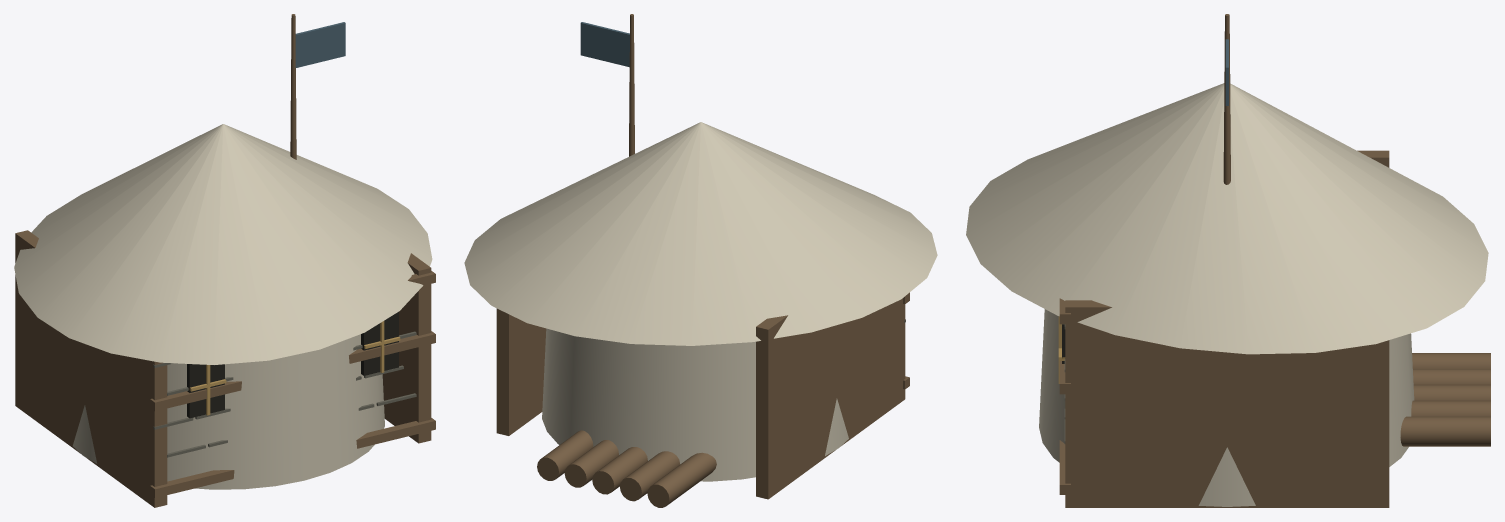
The model's file is b-lumber-steppe.glb.
3 renders of one model, left to right at view 1: azimuth 30°, elevation 25°; view 2: azimuth 150°, elevation 25°; view 3: azimuth 270°, elevation 25°, orthographic. The views are drawn at different scales.
Visible parts, largest first — view 1: Structure; view 2: Structure; view 3: Structure.
Boxes of the visible parts, left/top/right/bottom form: Structure: left=14, top=14, right=435, bottom=507; Structure: left=464, top=14, right=937, bottom=507; Structure: left=966, top=14, right=1490, bottom=507.
Bounding box in the file's own units: 5.55 × 5.33 × 5.57.
